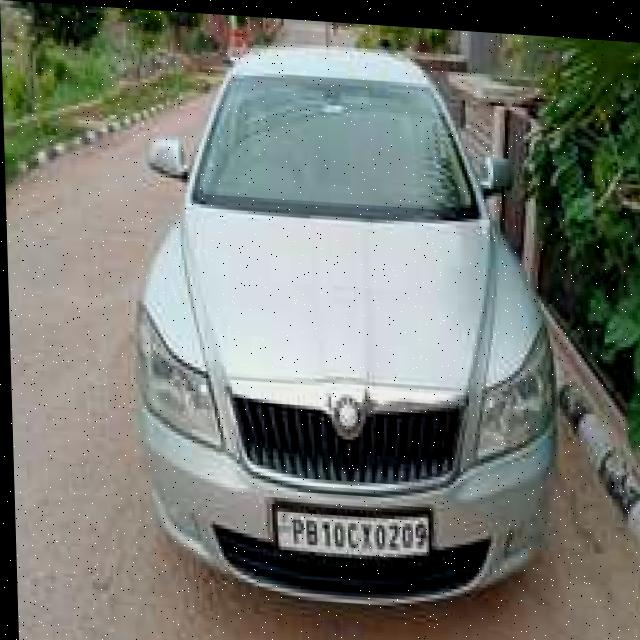plate: (266, 492, 431, 560)
